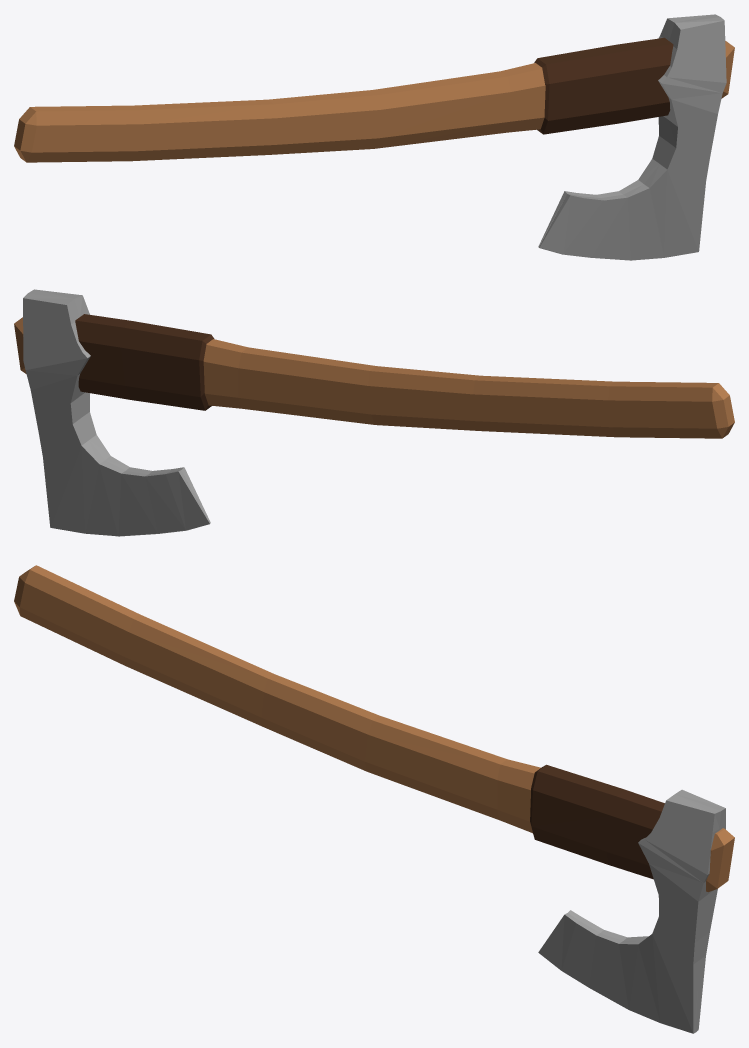
File: IronHandAxe.dae
3 views of the same model, one above another, from view 1: azimuth 30°, elevation 25°; view 2: azimuth 150°, elevation 25°; view 3: azimuth 330°, elevation 25° (orthographic).
Visible parts, largest first — view 1: Cube, Cube.001, Cube.002; view 2: Cube, Cube.001, Cube.002; view 3: Cube, Cube.001, Cube.002.
Boxes of the visible parts, x1,y1,x2,y2 form: Cube: (14, 41, 734, 162); Cube.001: (538, 14, 726, 260); Cube.002: (534, 37, 673, 134); Cube: (14, 317, 734, 438); Cube.001: (23, 289, 210, 536); Cube.002: (75, 314, 214, 410); Cube: (14, 565, 734, 892); Cube.001: (538, 789, 725, 1033); Cube.002: (530, 764, 664, 879).
Bounding box in the file's own units: 0.7083 × 0.041 × 0.2878.
